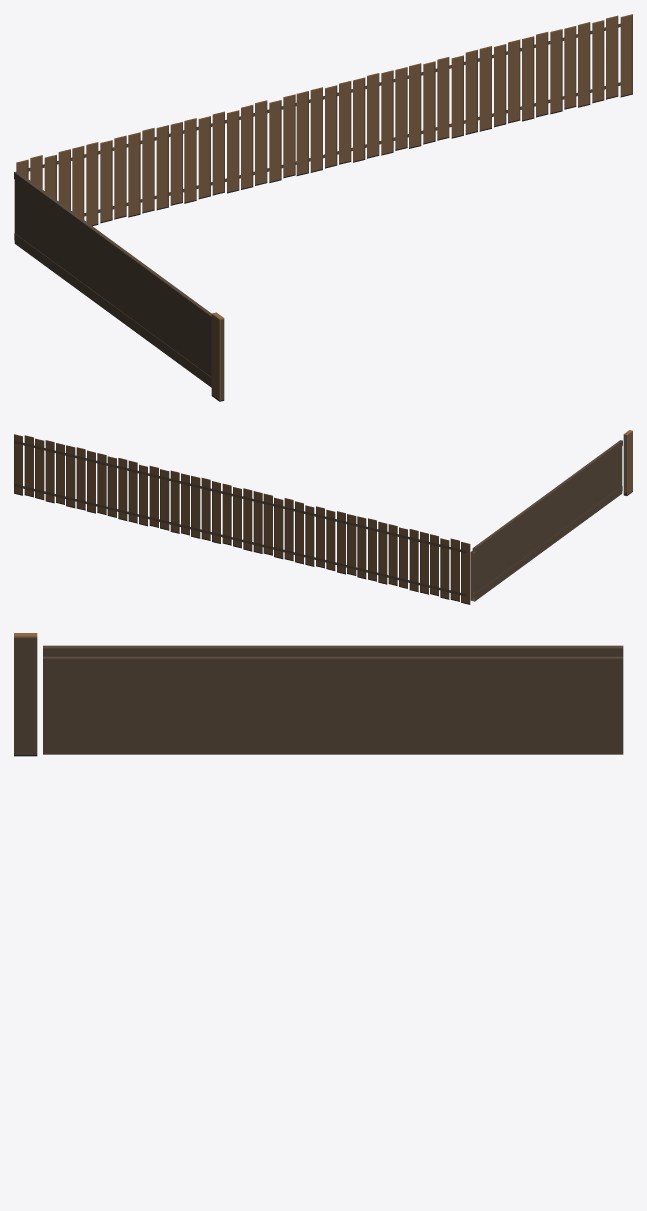
Rendered from fence_wooden.FBX.
3 renders of one model, top to bottom at view 1: azimuth 30°, elevation 25°; view 2: azimuth 150°, elevation 25°; view 3: azimuth 270°, elevation 25°, orthographic. The views are drawn at different scales.
Parts seen in each view (by area): view 1: fence_wooden; view 2: fence_wooden; view 3: fence_wooden.
Boxes of the visible parts, <box> form: fence_wooden: <box>14,14,632,401</box>; fence_wooden: <box>14,430,632,604</box>; fence_wooden: <box>14,633,623,756</box>.
Size of the model in its own units: 963 by 123 by 568.
Materials: 1 (1 with a texture image).
